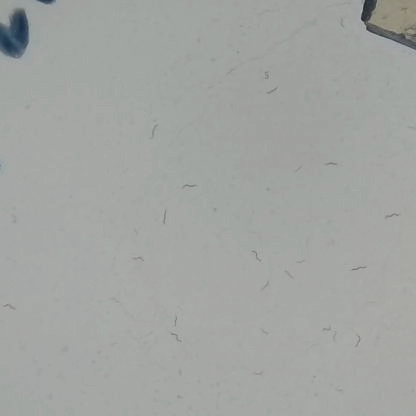worm: (379, 208, 400, 231), (3, 211, 21, 235), (163, 330, 184, 349), (146, 119, 163, 141), (261, 86, 283, 100), (165, 312, 184, 328), (159, 207, 174, 227), (347, 262, 368, 276), (349, 332, 365, 349), (335, 12, 347, 34), (256, 69, 277, 81), (0, 302, 18, 314), (247, 369, 268, 379), (282, 267, 296, 282), (258, 278, 272, 293), (223, 65, 237, 79), (321, 321, 334, 335), (181, 181, 199, 191), (325, 158, 341, 169), (333, 384, 347, 396), (294, 161, 305, 176), (295, 255, 313, 264), (133, 251, 145, 263), (329, 331, 340, 344), (259, 326, 273, 336), (107, 296, 123, 304), (403, 126, 416, 135)
